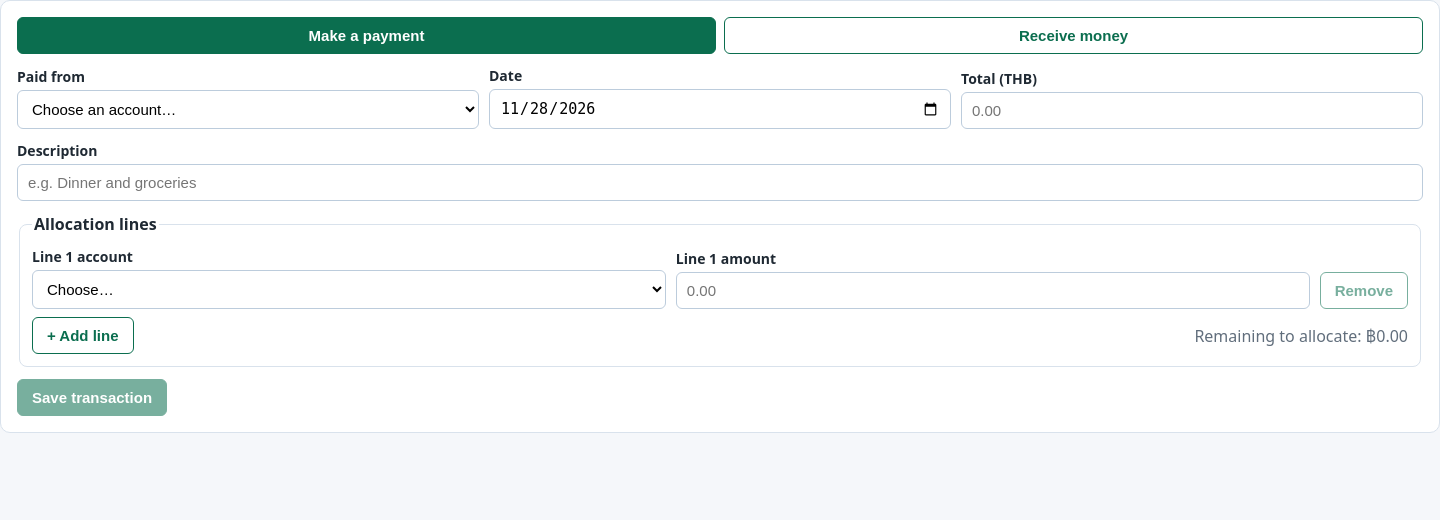
Scenario: Transaction form › TEST-UI-02: tracks the remaining amount and blocks saving until lines equal the total
The image size is (1440, 520).
Select "KTC Credit Card" in the dropdown labelled "Paid from" at (248, 110), box [17,90,479,129]
Type "1500" into the field labelled "Total (THB)" at (1192, 110), box [961,92,1423,129]
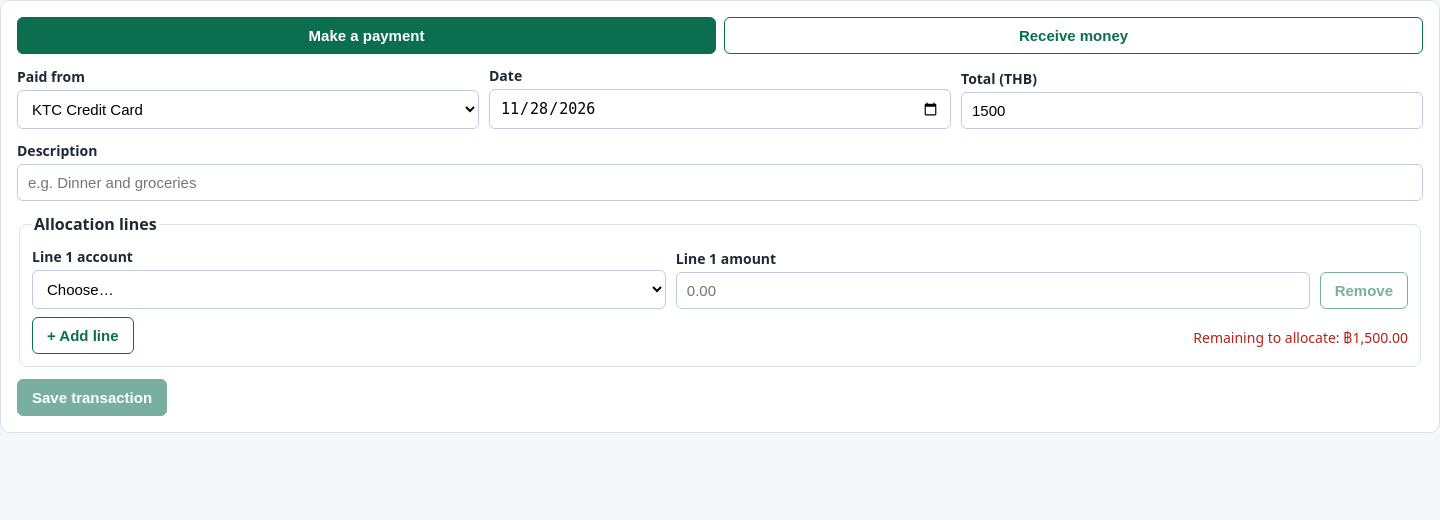
Select "Dining" in the dropdown labelled "Line 1 account" at (349, 290), box [32,270,666,309]
Type "900" into the field labelled "Line 1 amount" at (993, 290), box [676,272,1310,309]
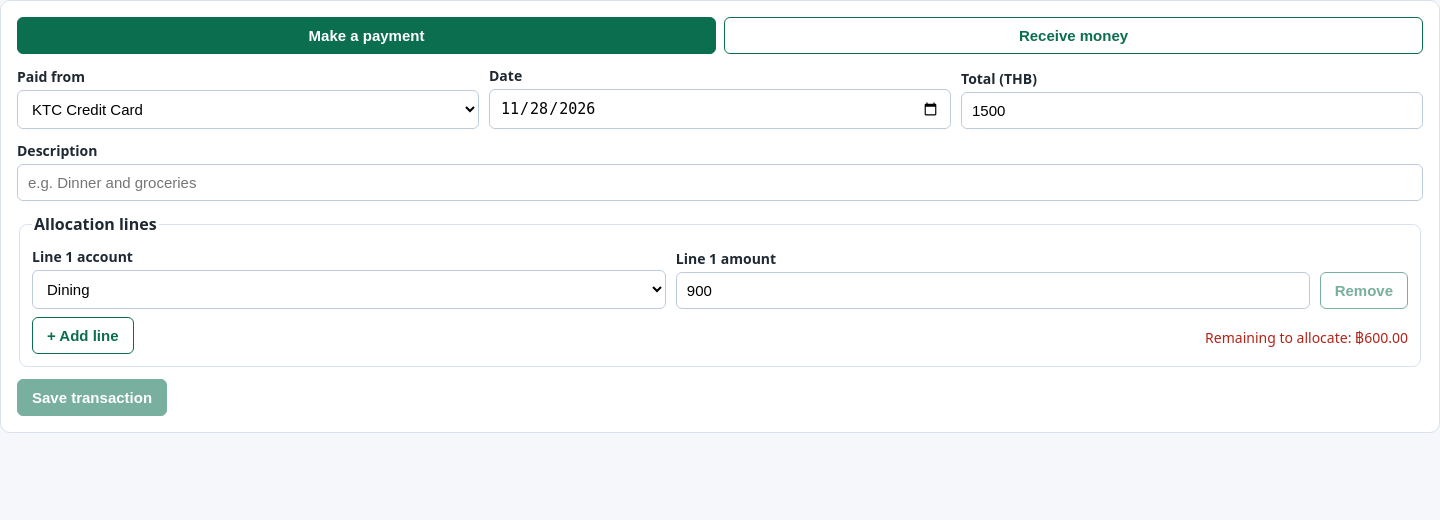
Click the button "+ Add line" at (83, 336), box [32,317,134,354]
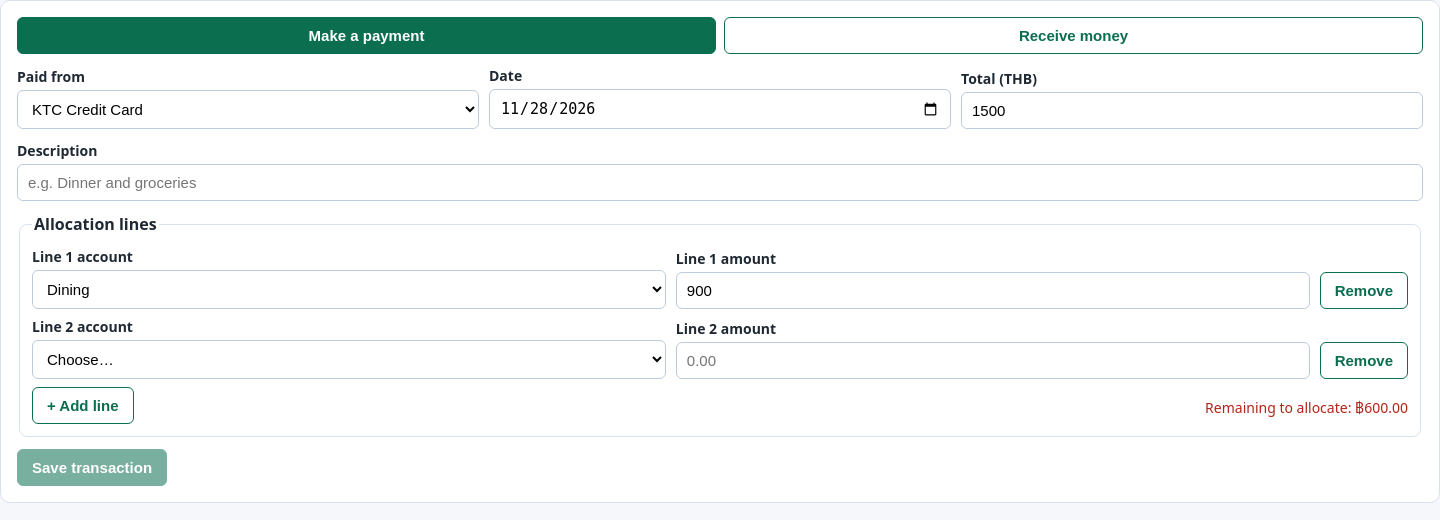
Select "Groceries" in the dropdown labelled "Line 2 account" at (349, 360), box [32,340,666,379]
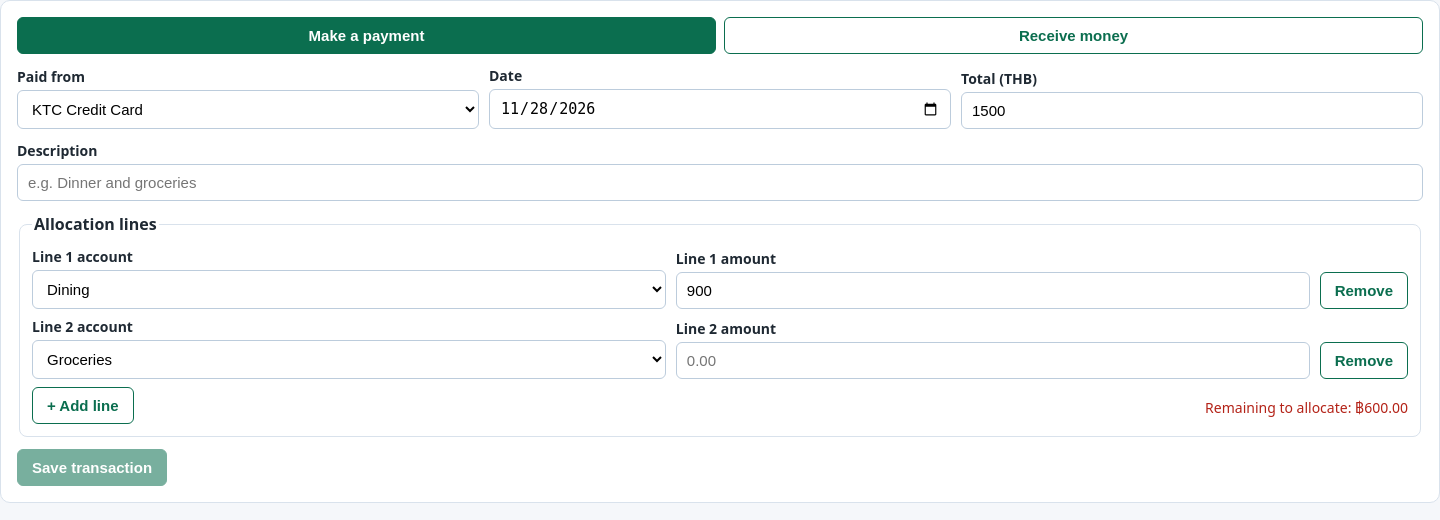
Type "500" into the field labelled "Line 2 amount" at (993, 360), box [676,342,1310,379]
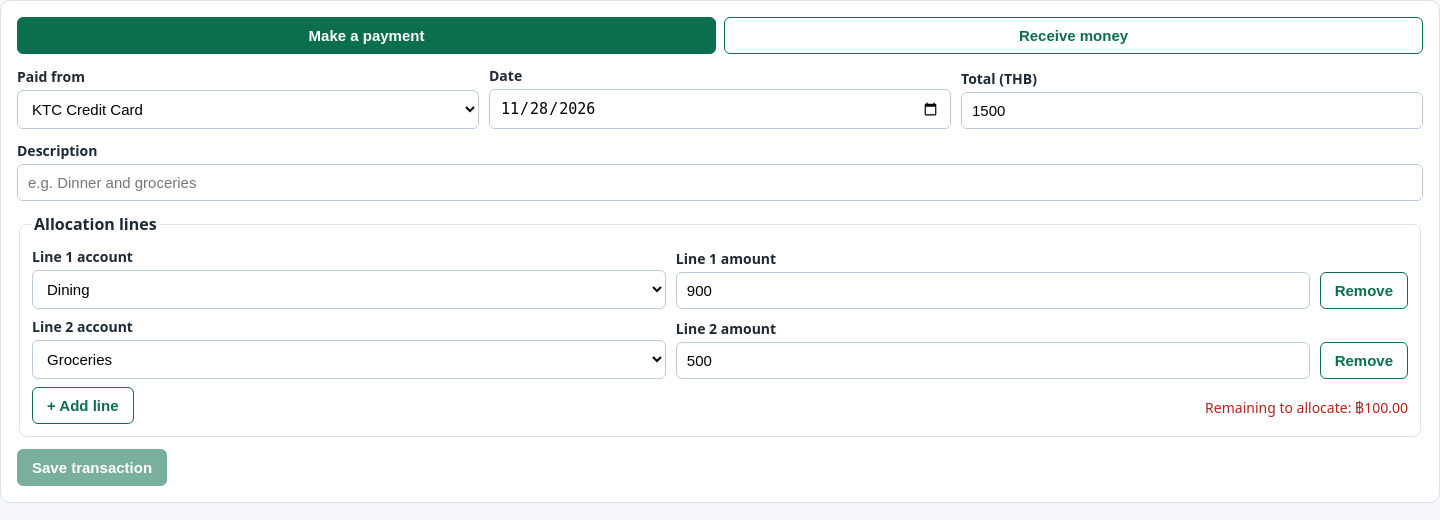
Expected: the button "Save transaction" is disabled, [17,449,167,486]
Now the text with test id "remaining" reads "Remaining to allocate: ฿100.00", box [1205,398,1408,417]
Replace the text in the field labelled "Line 2 amount" with "600" at (993, 360), box [676,342,1310,379]
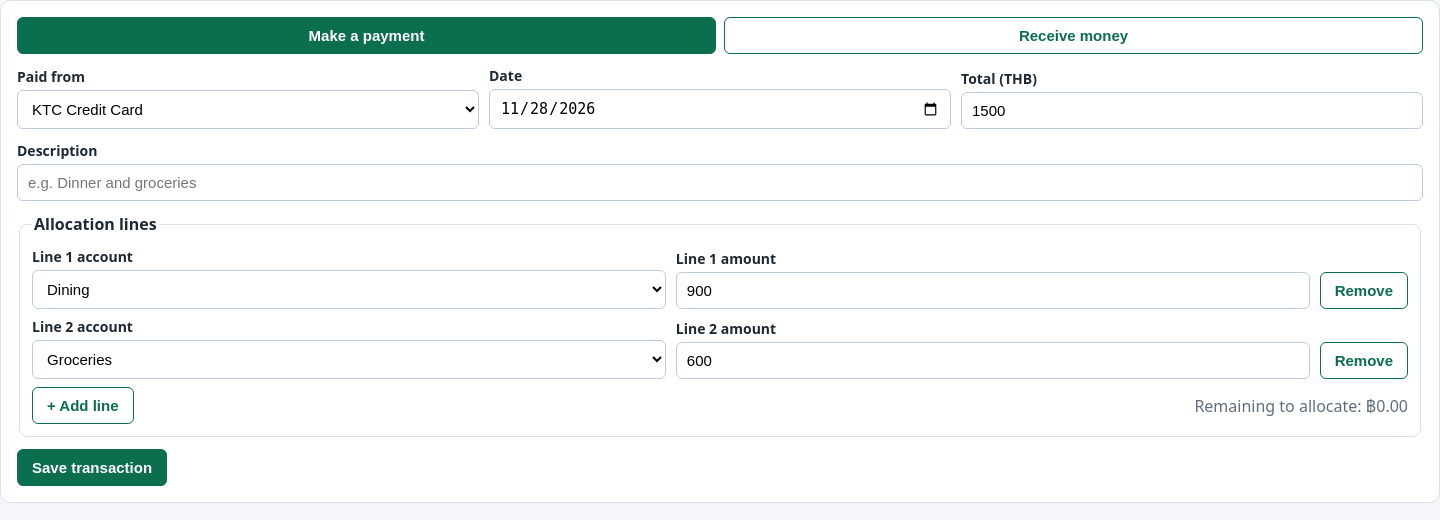
Now the text with test id "remaining" reads "Remaining to allocate: ฿0.00", box [1194,394,1408,416]
Now the button "Save transaction" is enabled, box [17,449,167,486]
